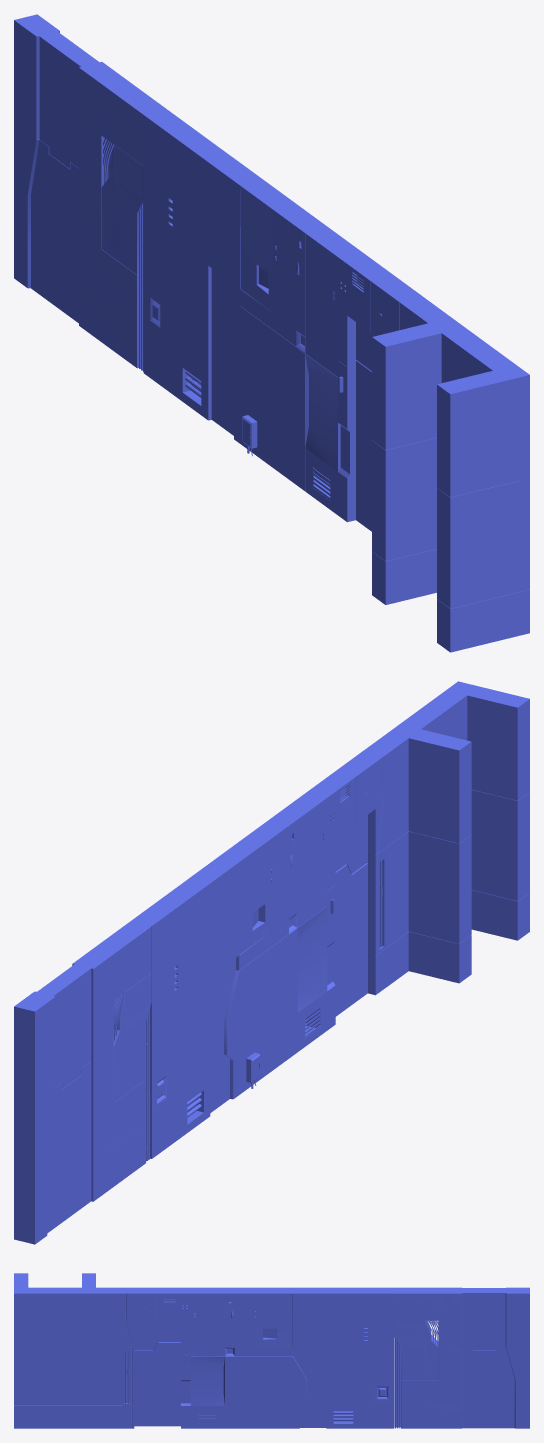
Rendered from 7Mur.fbx.
3 views of the same model, one above another, from view 1: azimuth 30°, elevation 25°; view 2: azimuth 150°, elevation 25°; view 3: azimuth 270°, elevation 25° (orthographic). The views are drawn at different scales.
Visible parts, largest first — view 1: Mur_Coin1, Mur_Coin, Mur_V3, Mur_V5, Mur_V1, Mur_V4, Mur_V2, Porte_Mur, Mur_022, Porte; view 2: Mur_Coin, Mur_V1, Mur_Coin1, Mur_V3, Mur_V5, Mur_V4, Mur_V2, Porte_Mur, Porte, Mur_022; view 3: Mur_Coin, Mur_V4, Mur_V3, Mur_V5, Mur_V1, Mur_V2, Mur_Coin1, Porte, Porte_Mur, Mur_022, pPlane9, Barre03.
Boxes of the visible parts, x1,y1,x2,y2 form: Mur_Coin1: (437,346,529,652); Mur_Coin: (372,299,490,604); Mur_V3: (143,109,231,420); Mur_V5: (273,204,360,514); Mur_V1: (14,14,99,323); Mur_V4: (208,156,295,467); Mur_V2: (79,62,166,368); Porte_Mur: (338,251,425,522); Mur_022: (101,145,143,275); Porte: (356,322,374,531); Mur_Coin: (365,707,471,987); Mur_V1: (14,964,91,1244); Mur_Coin1: (423,681,529,940); Mur_V3: (131,878,210,1158); Mur_V5: (248,792,327,1073); Mur_V4: (189,835,268,1112); Mur_V2: (72,921,151,1201); Porte_Mur: (306,750,385,1030); Porte: (333,815,367,1016); Mur_022: (113,973,151,1102); Mur_Coin: (55,1273,122,1428); Mur_V4: (258,1287,326,1428); Mur_V3: (326,1287,394,1428); Mur_V5: (190,1287,258,1428); Mur_V1: (462,1287,529,1428); Mur_V2: (394,1287,462,1428); Mur_Coin1: (14,1273,54,1428); Porte: (134,1320,180,1426); Porte_Mur: (123,1287,190,1428); Mur_022: (394,1320,438,1379); pPlane9: (394,1338,400,1427); Barre03: (197,1411,217,1423).
Size of the model in its own units: 0.7362 by 2.2 by 7.6.
